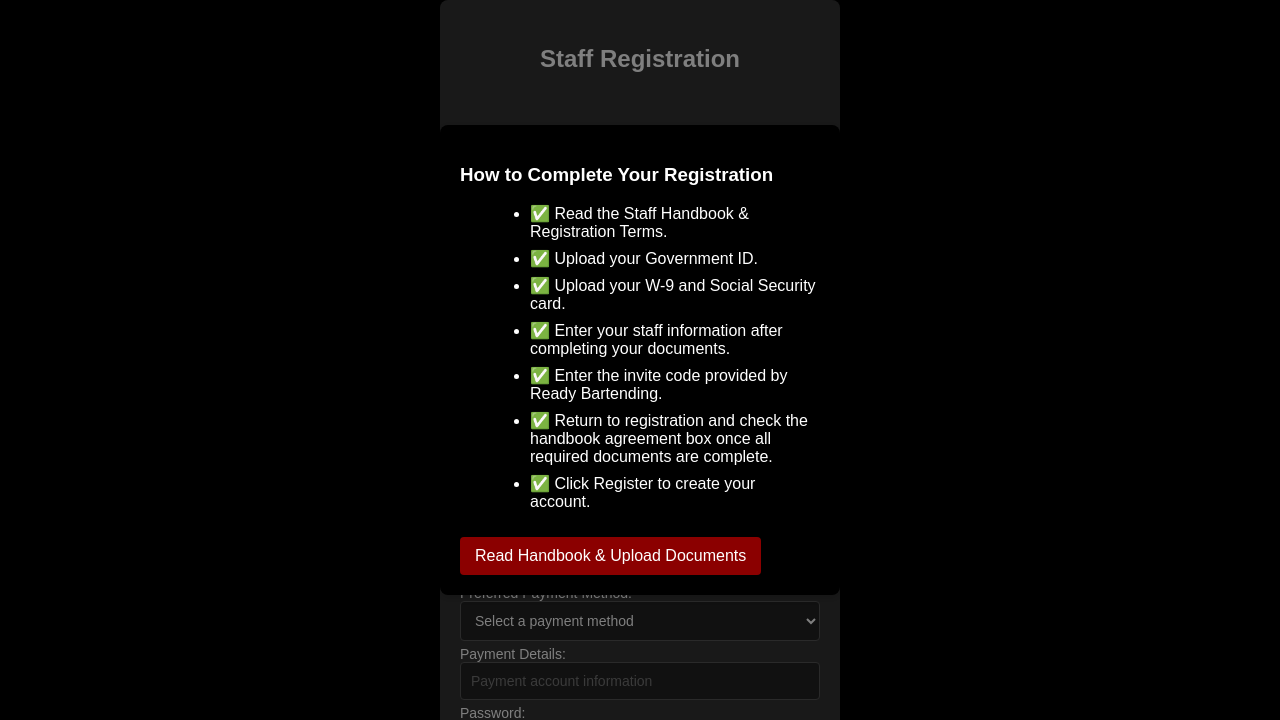
Test: opening instructions cannot be skipped and return when documents are incomplete
Step 1. Click the button "Read Handbook & Upload Documents" → [611, 556], box [460,537,761,575]
(page scrolled)
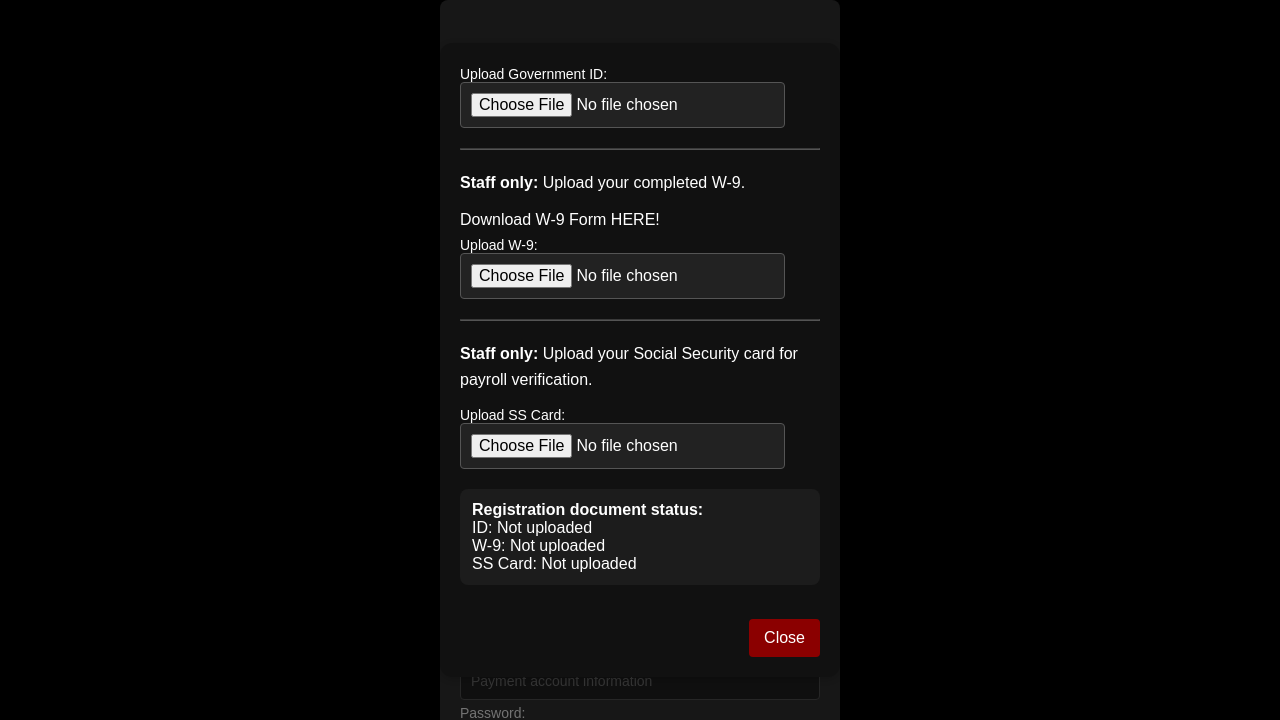
Expected: the dialog is shown
Step 2. Click the button "Close" → [785, 638], box [749,619,820,657]
(page scrolled)
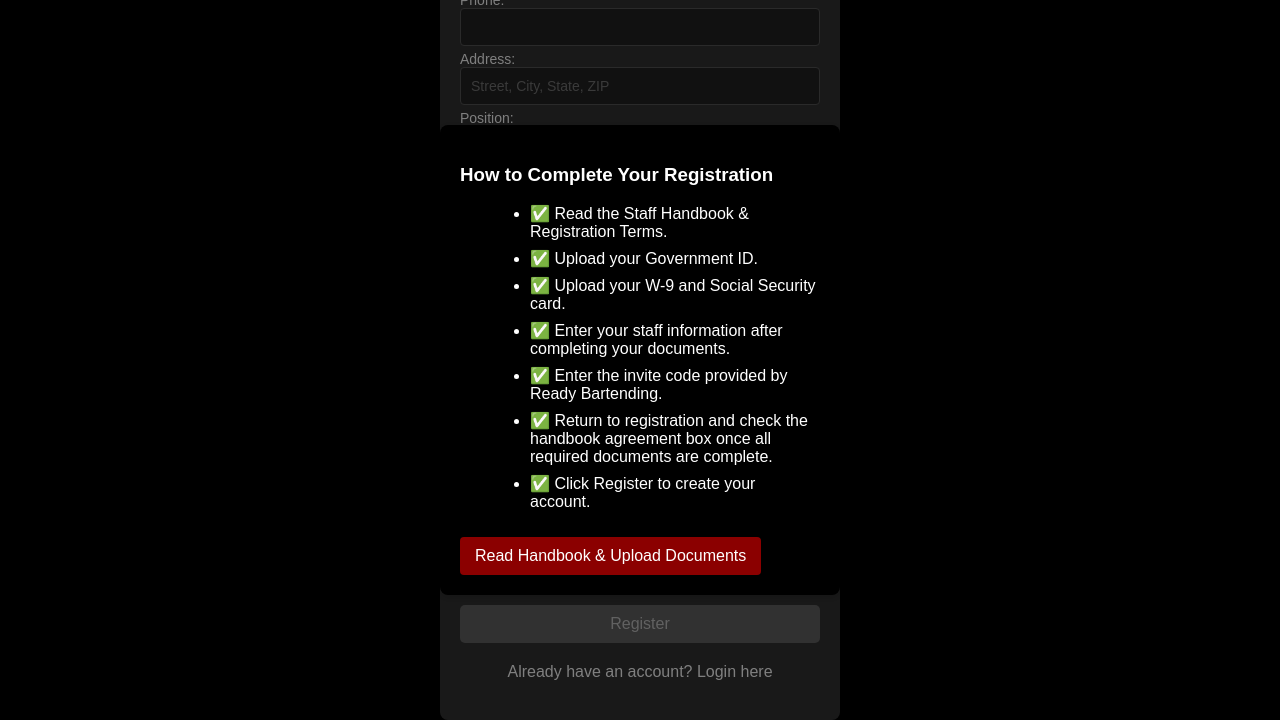
Expected: the heading "How to Complete Your Registration" is shown, [460,164,820,186]
